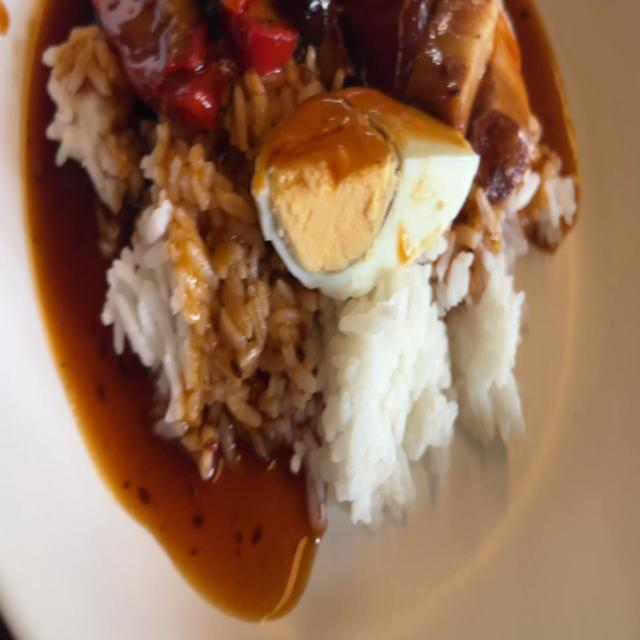01boiled_egg: (259, 90, 477, 284)
01chainese_sausage: (287, 0, 421, 89)
01crispy_pork: (422, 0, 532, 185)
01red_pork: (118, 0, 287, 121)
01red_pork_and_crispy_pork: (49, 0, 576, 495)
01rice: (246, 282, 530, 496), (110, 125, 246, 454), (60, 28, 134, 197)
